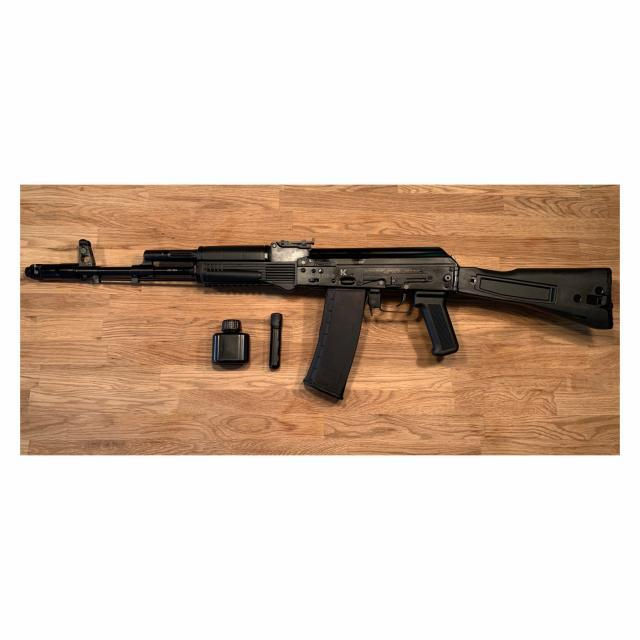weapon: (22, 238, 614, 402)
